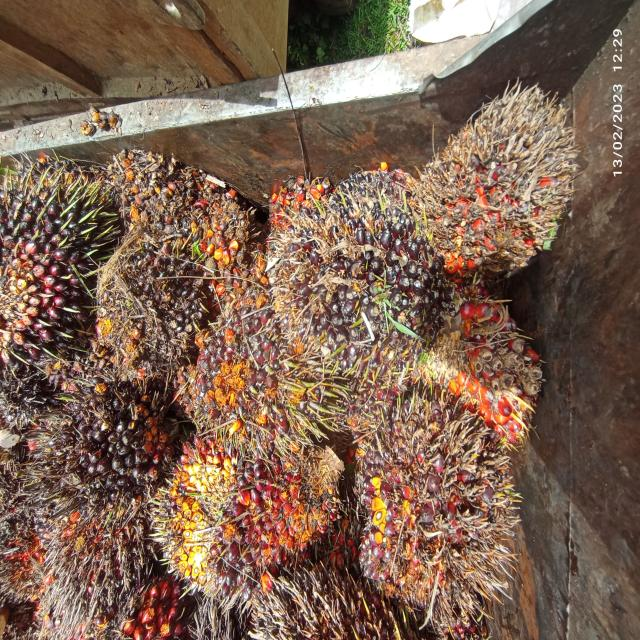fraksi 00: (263, 158, 454, 398), (0, 158, 121, 391), (16, 381, 185, 540), (79, 240, 211, 372)
fraksi 1: (340, 368, 522, 640), (131, 442, 320, 585), (181, 306, 320, 446)
fraksi 4: (401, 76, 591, 310), (426, 286, 554, 449)
